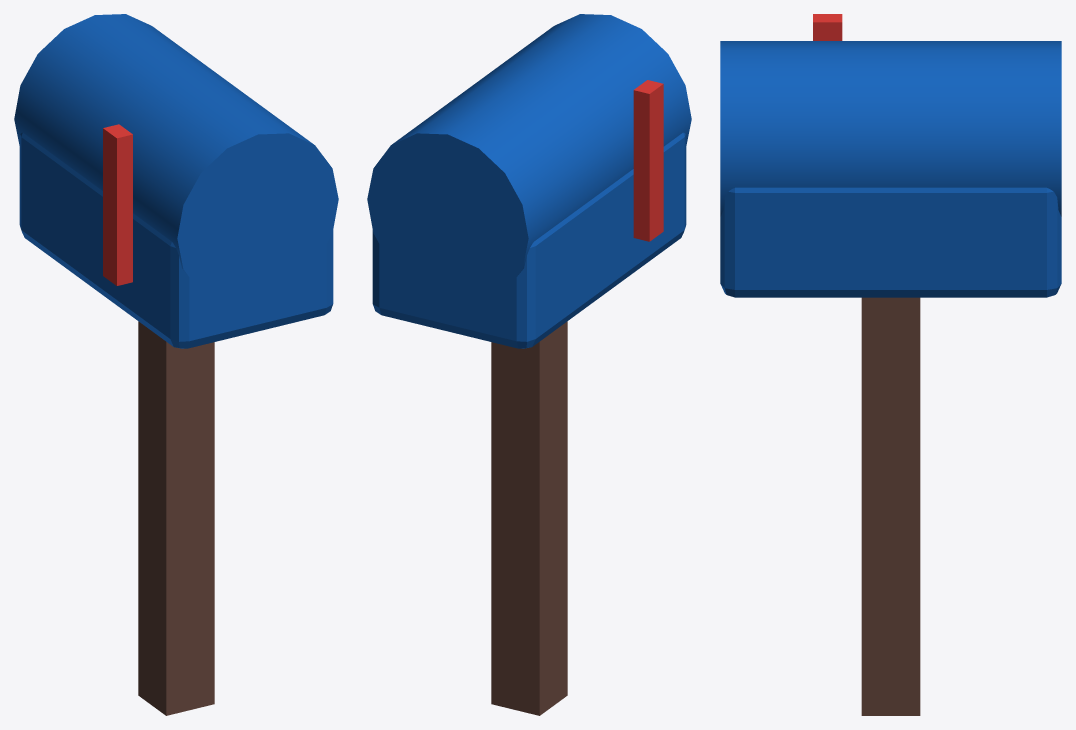
The model's file is mailbox.fbx.
3 views of the same model, side by side, from view 1: azimuth 30°, elevation 25°; view 2: azimuth 150°, elevation 25°; view 3: azimuth 270°, elevation 25° (orthographic). The views are drawn at different scales.
Visible parts, largest first — view 1: Mailbox.001; view 2: Mailbox.001; view 3: Mailbox.001.
Boxes of the visible parts, <box> form: Mailbox.001: <box>14,14,338,715</box>; Mailbox.001: <box>367,14,691,715</box>; Mailbox.001: <box>720,14,1061,715</box>.
Bounding box in the file's own units: 0.44 × 1.48 × 0.7.
